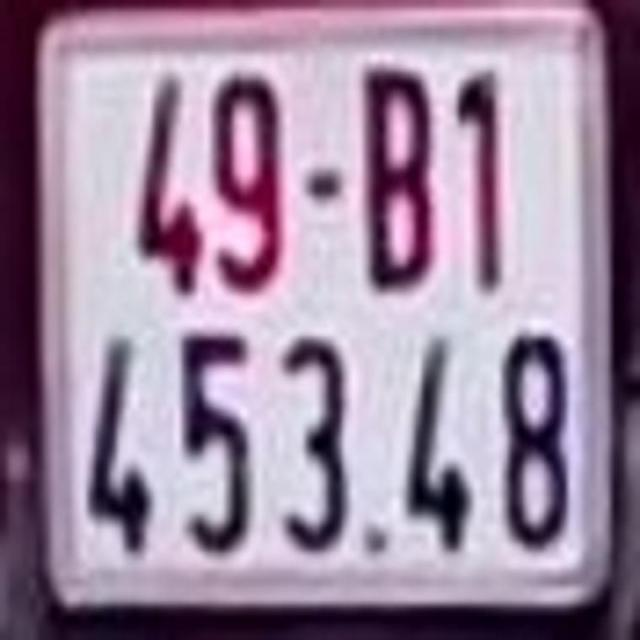1: (451, 57, 517, 290)
3: (276, 318, 351, 560)
4: (77, 333, 160, 558), (402, 320, 472, 563), (133, 68, 205, 303)
5: (175, 319, 254, 556)
8: (500, 317, 574, 554)
9: (206, 58, 288, 296)
B: (360, 58, 434, 292)
